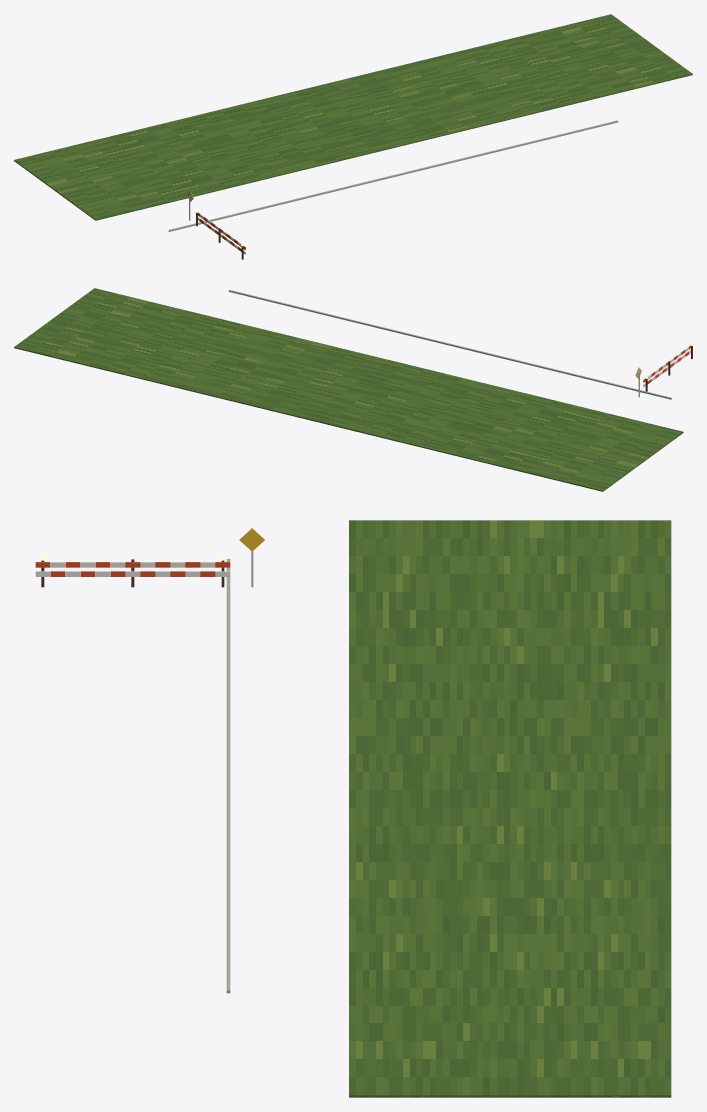
The model's file is structure.glb.
3 views of the same model, one above another, from view 1: azimuth 30°, elevation 25°; view 2: azimuth 150°, elevation 25°; view 3: azimuth 270°, elevation 25° (orthographic). The views are drawn at different scales.
Visible parts, largest first — view 1: Box1, Box2; view 2: Box1, Box2; view 3: Box1, Box2.
Boxes of the visible parts, x1,y1,x2,y2 form: Box1: (14, 14, 692, 220); Box2: (168, 120, 618, 231); Box1: (14, 288, 683, 491); Box2: (228, 290, 671, 399); Box1: (349, 520, 671, 1097); Box2: (226, 559, 230, 993).
Size of the model in its own units: 55.88 by 2.81 by 26.12.
Materials: 8 (1 with a texture image).
